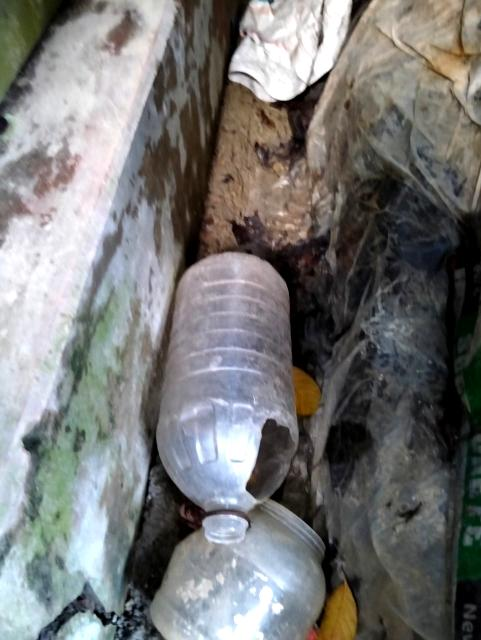bottle: (147, 244, 313, 523)
